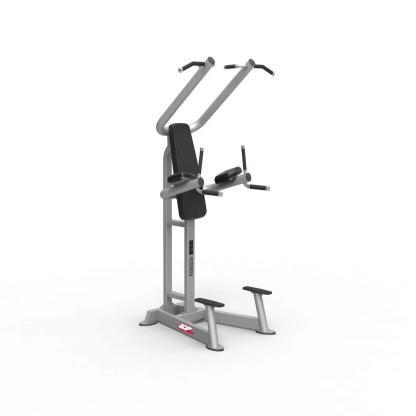chinning dipping: (141, 58, 283, 351)
